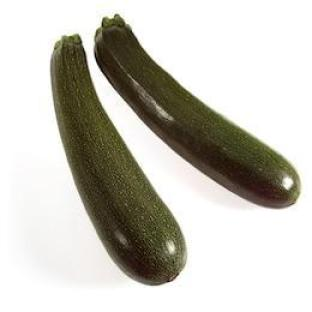Zucchini: (95, 16, 299, 207), (51, 35, 185, 284)
